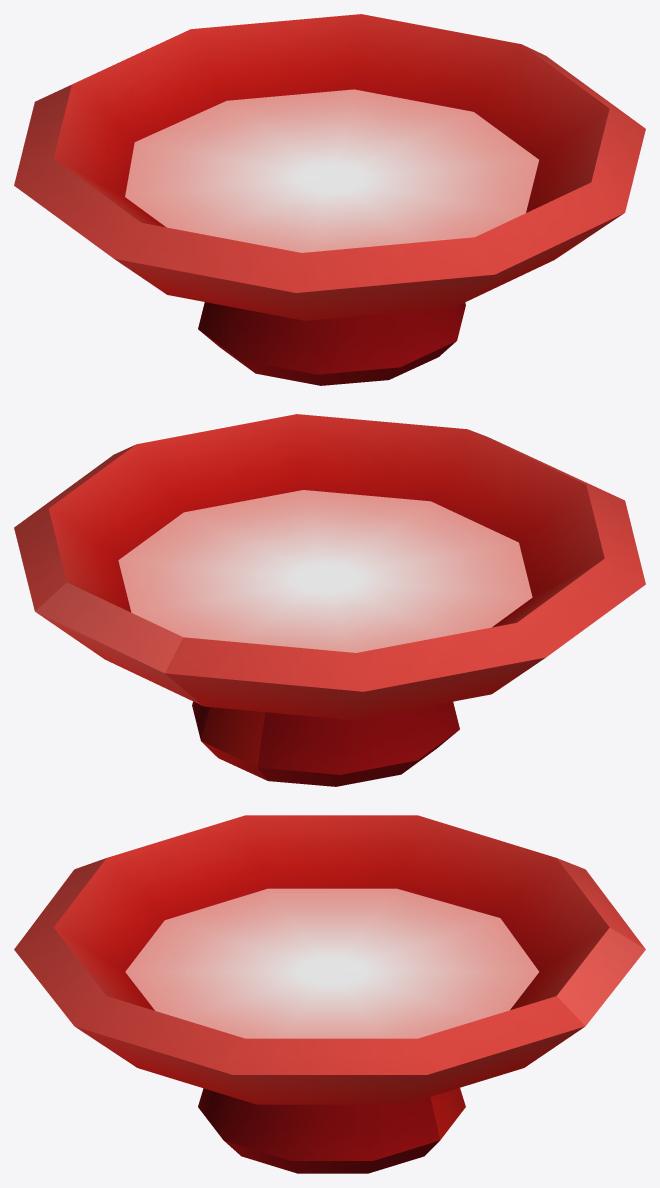
The model's file is m_SakazukiSakeCup01.fbx.
The picture shows the model from 3 angles, top to bottom: view 1: azimuth 30°, elevation 25°; view 2: azimuth 150°, elevation 25°; view 3: azimuth 270°, elevation 25°; orthographic projection. The views are drawn at different scales.
Visible parts, largest first — view 1: m_SakazukiSakeCup01; view 2: m_SakazukiSakeCup01; view 3: m_SakazukiSakeCup01.
Boxes of the visible parts, <box> form: m_SakazukiSakeCup01: <box>14,14,645,385</box>; m_SakazukiSakeCup01: <box>14,414,645,786</box>; m_SakazukiSakeCup01: <box>14,815,645,1173</box>.
Bounding box in the file's own units: 15.52 × 5.7 × 16.32.
